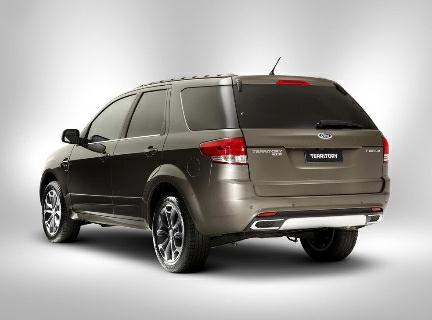福特-Territory: (32, 65, 402, 282)
